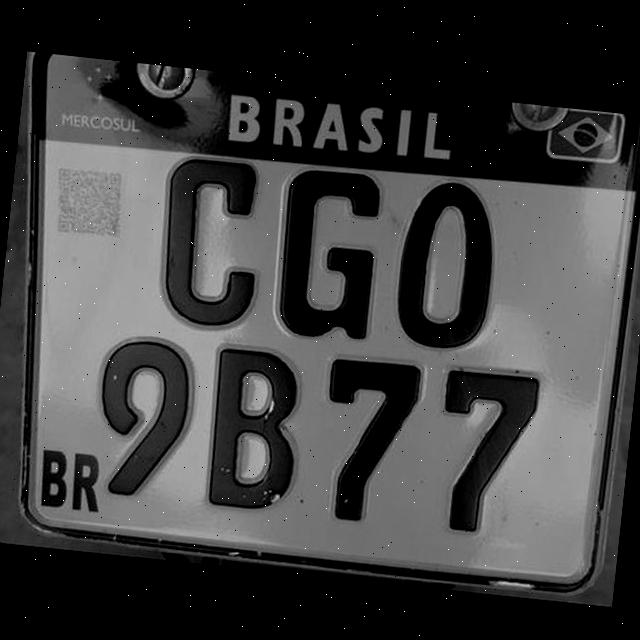Caractere: (146, 153, 274, 337), (265, 164, 387, 343), (313, 350, 432, 532), (197, 338, 314, 518), (390, 175, 505, 358), (428, 360, 543, 540), (88, 330, 205, 506)
Placa: (0, 49, 640, 603)
